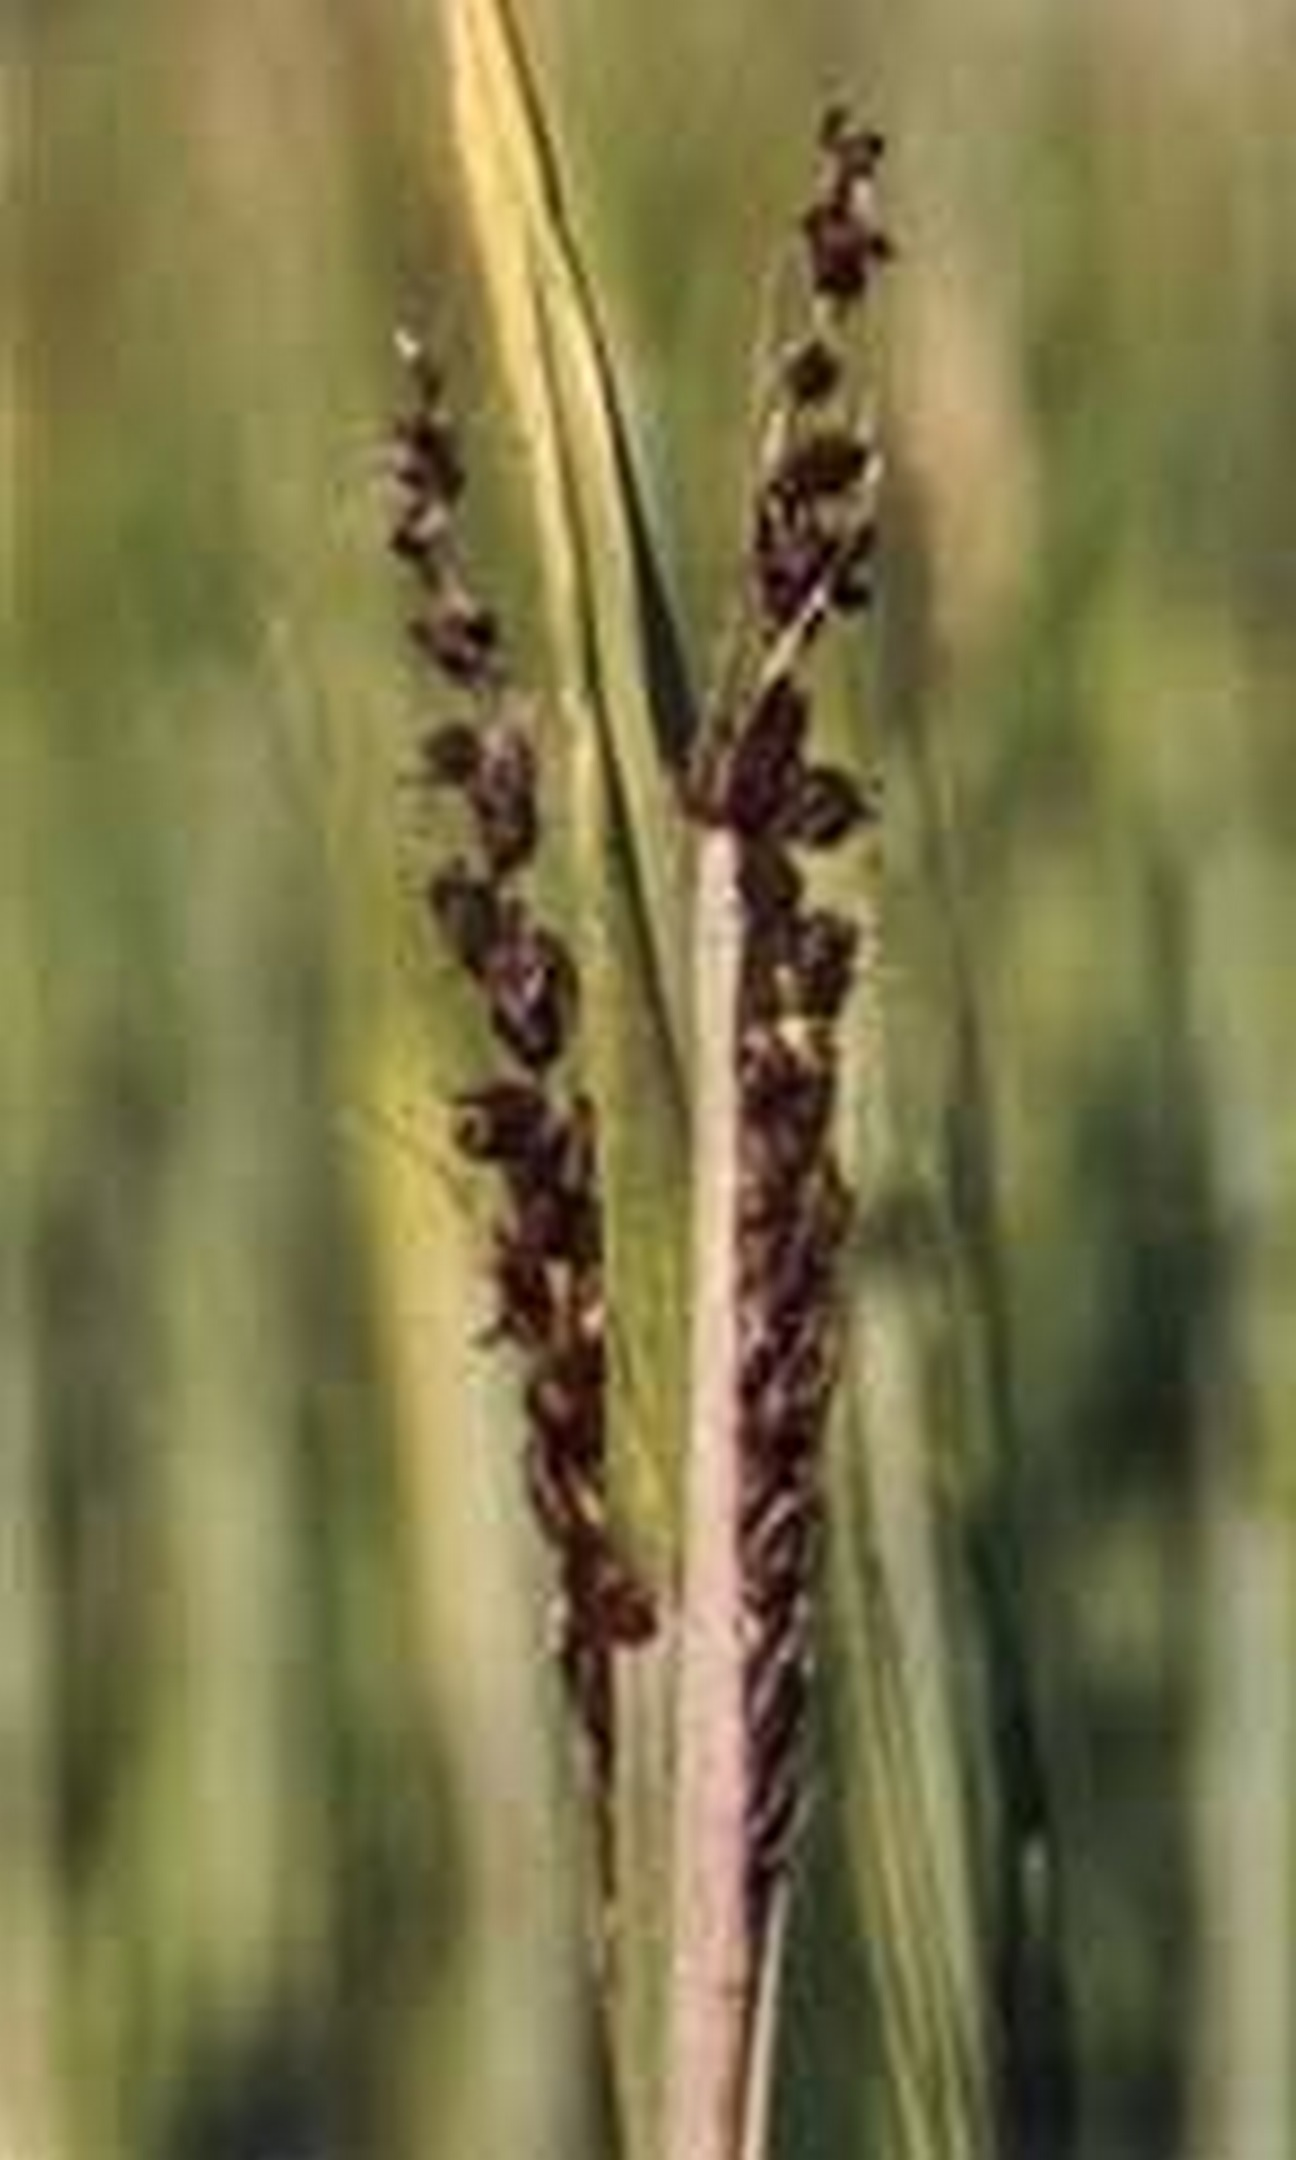Wheat Loose Smut: (339, 259, 986, 1669)
